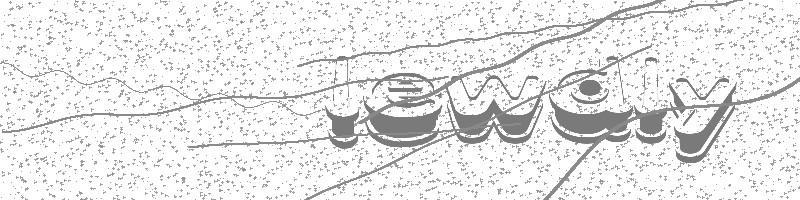d: (549, 56, 634, 144)
e: (364, 72, 443, 148)
l: (326, 56, 360, 148), (636, 57, 669, 144)
w: (447, 76, 546, 144)
y: (668, 78, 738, 163)
